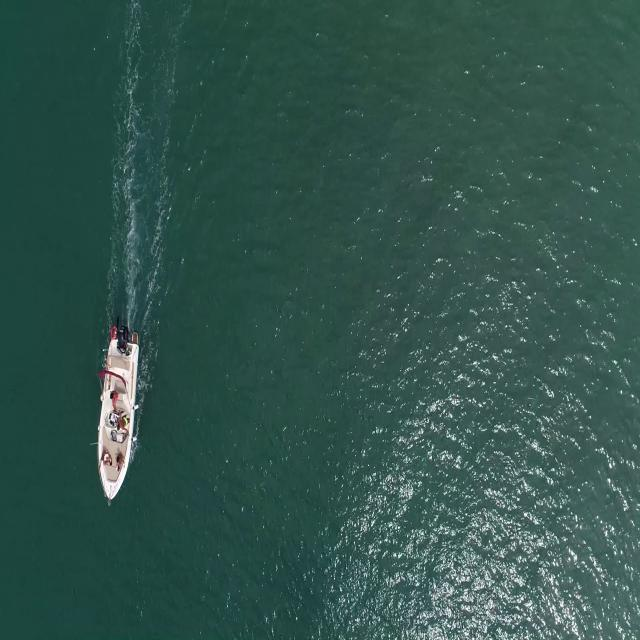boat: (96, 329, 140, 506)
life_buoy: (109, 326, 118, 339)
person: (115, 415, 131, 438), (99, 448, 112, 473), (108, 388, 118, 412), (116, 453, 126, 471)
